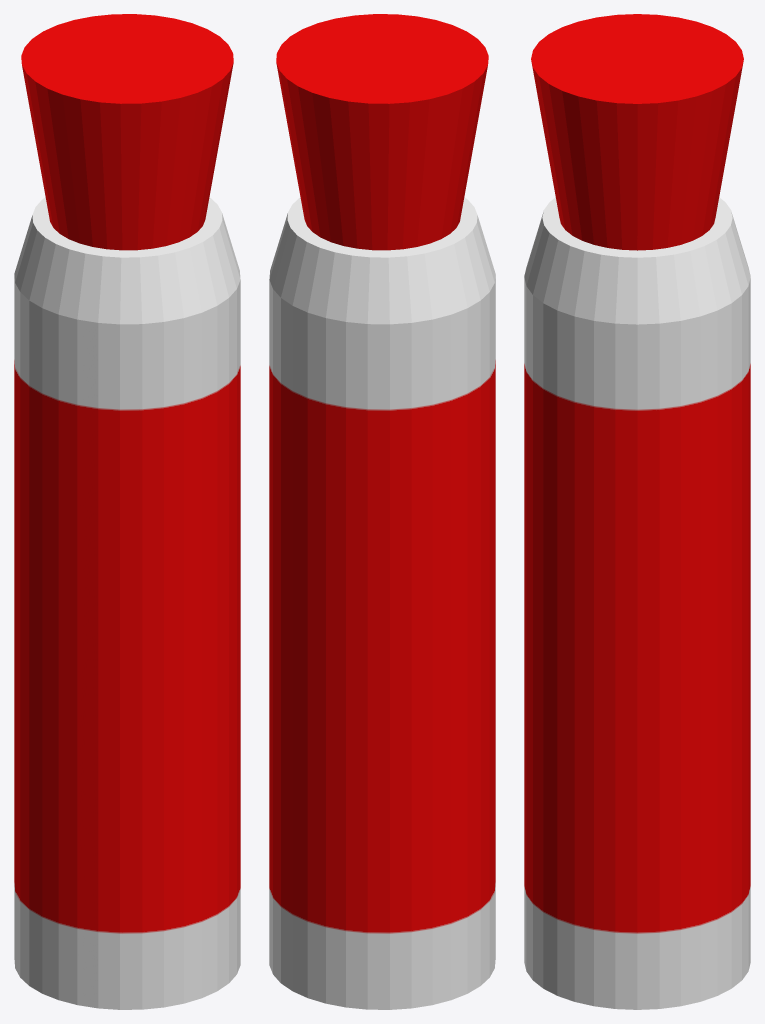
The model's file is Marker.fbx.
3 views of the same model, side by side, from view 1: azimuth 30°, elevation 25°; view 2: azimuth 150°, elevation 25°; view 3: azimuth 270°, elevation 25° (orthographic).
Visible parts, largest first — view 1: Cylinder, Cylinder.001; view 2: Cylinder, Cylinder.001; view 3: Cylinder, Cylinder.001.
Part boxes in pixels (x1,y1,x2,y2): Cylinder: [14, 197, 240, 1009]; Cylinder.001: [21, 14, 233, 250]; Cylinder: [269, 197, 495, 1009]; Cylinder.001: [276, 14, 488, 250]; Cylinder: [524, 197, 750, 1009]; Cylinder.001: [531, 14, 743, 250].
Bounding box in the file's own units: 37.16 × 163 × 37.16.
